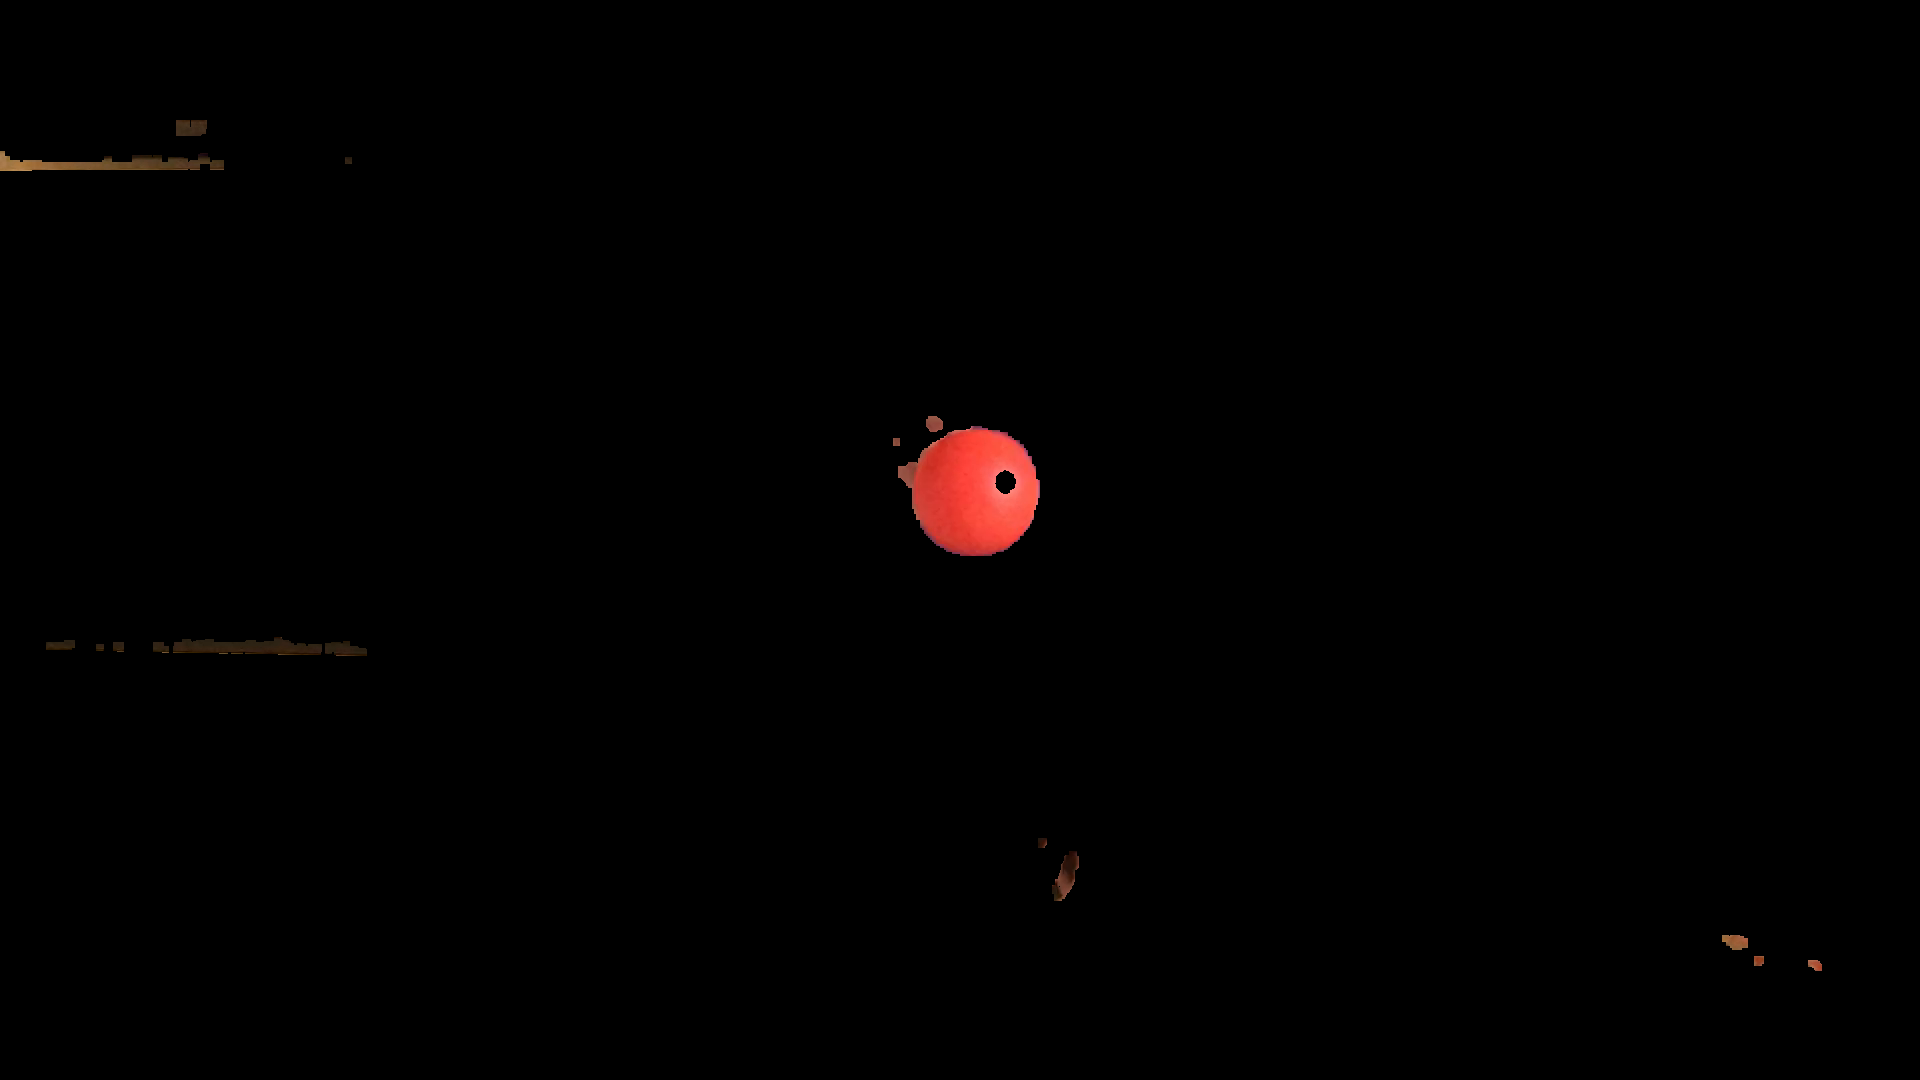Ball: (911, 431, 1044, 560)
